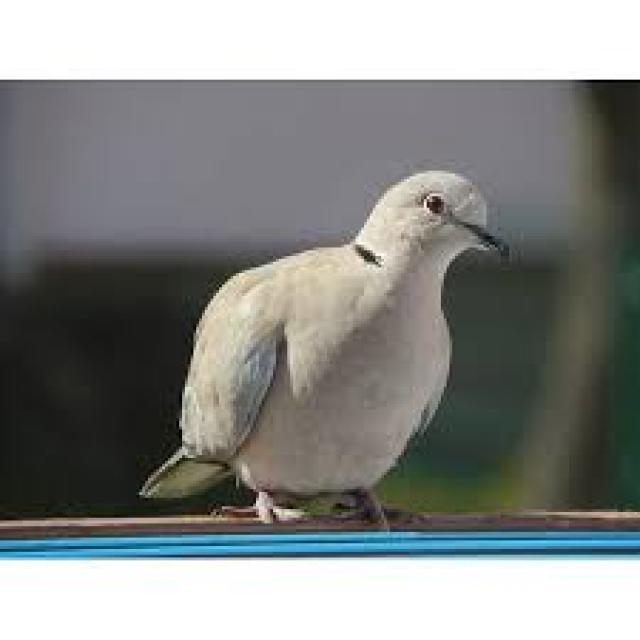pigeon: (131, 156, 528, 524)
